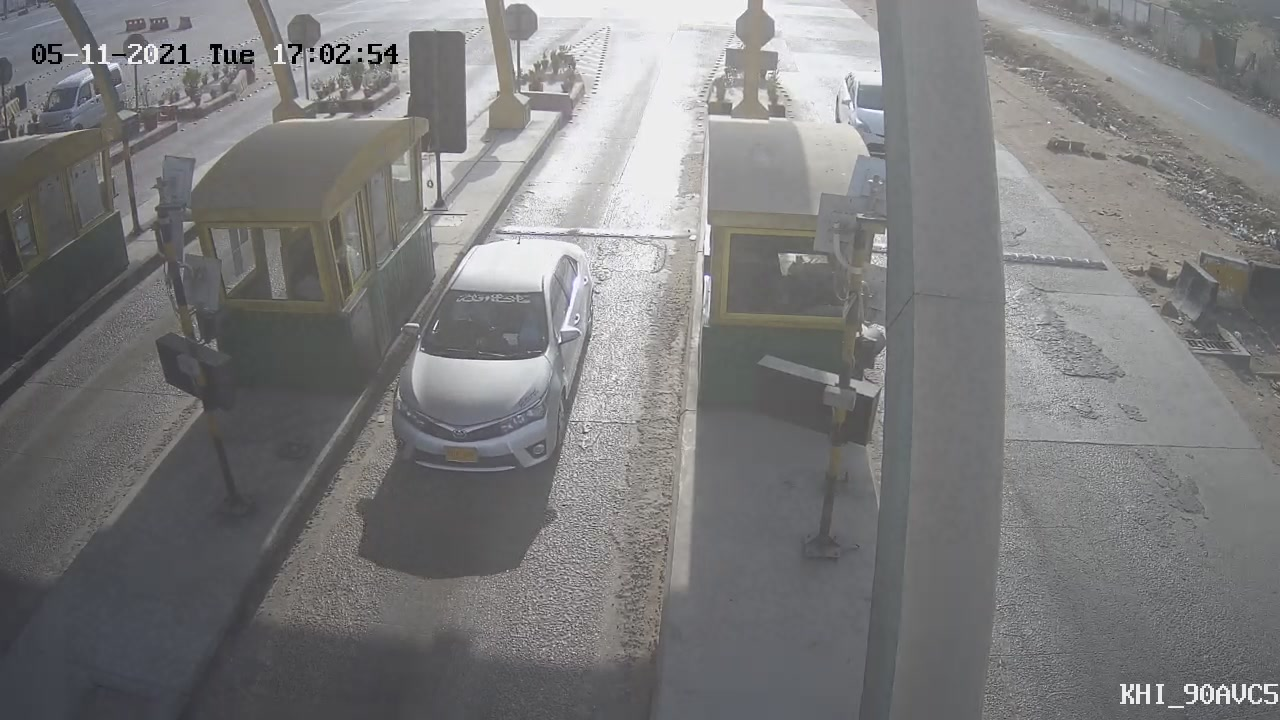F1: (363, 214, 622, 499)
